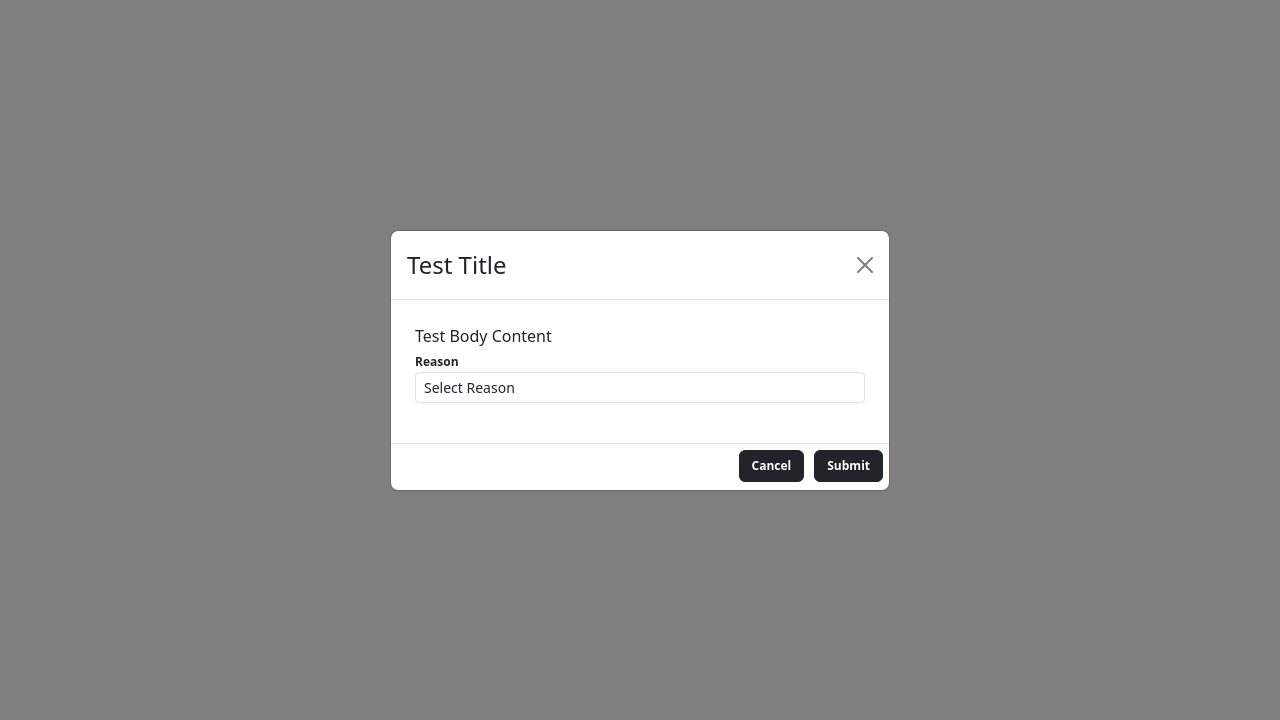
Test: MSOC Component › handles unsuccessful API response
# Select a reason
Select "Urgent 48hrs" in the dropdown labelled "Reason" at point(640, 387), box [415,372,865,402]
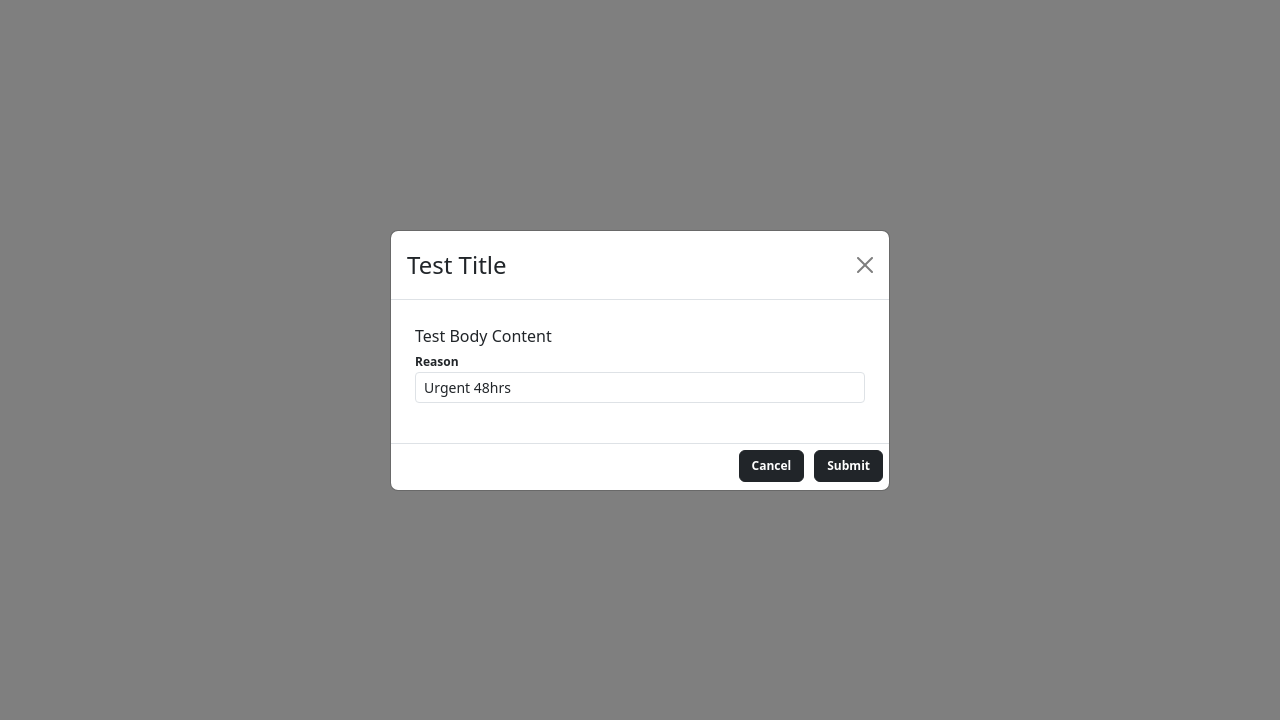
# Submit the form
Click the button "Submit" at point(849, 466), box [814,450,883,482]
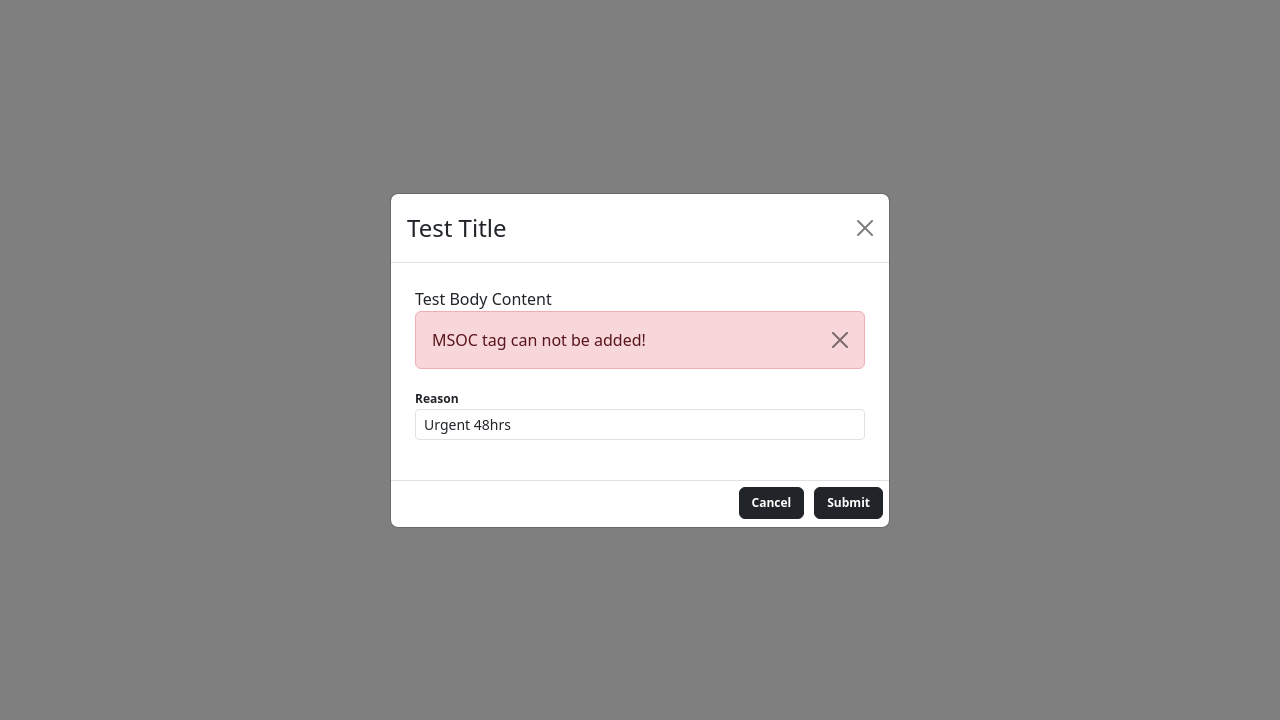
Now the text "MSOC tag can not be added!" is shown, box [415,310,865,368]
